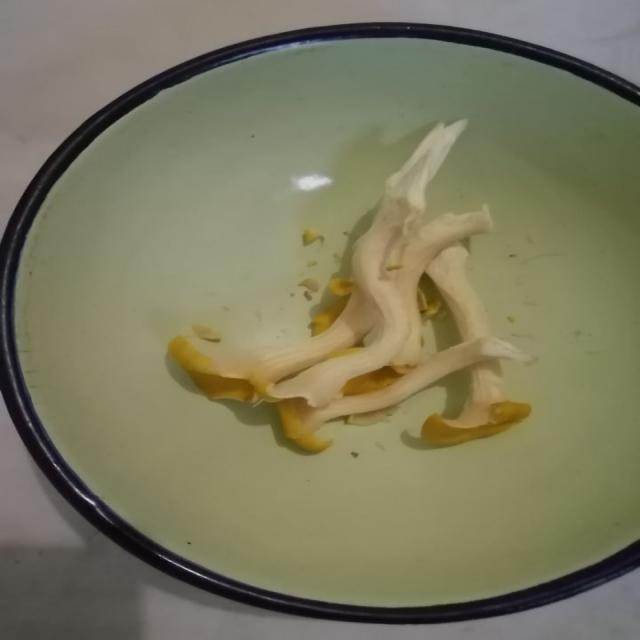Pleurotus citrinopileatus: (169, 119, 534, 455)
